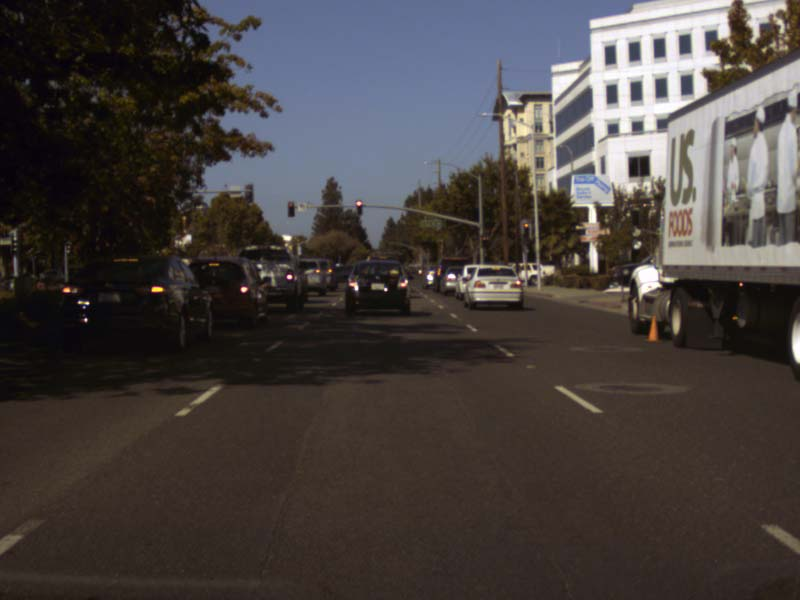Red: (355, 198, 363, 215), (287, 201, 294, 217), (523, 223, 529, 237), (482, 234, 487, 247)
